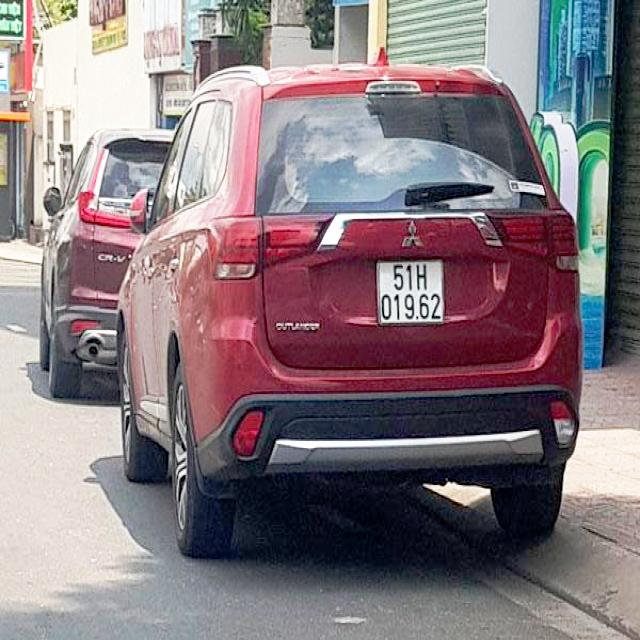license_plate: (379, 260, 445, 322)
